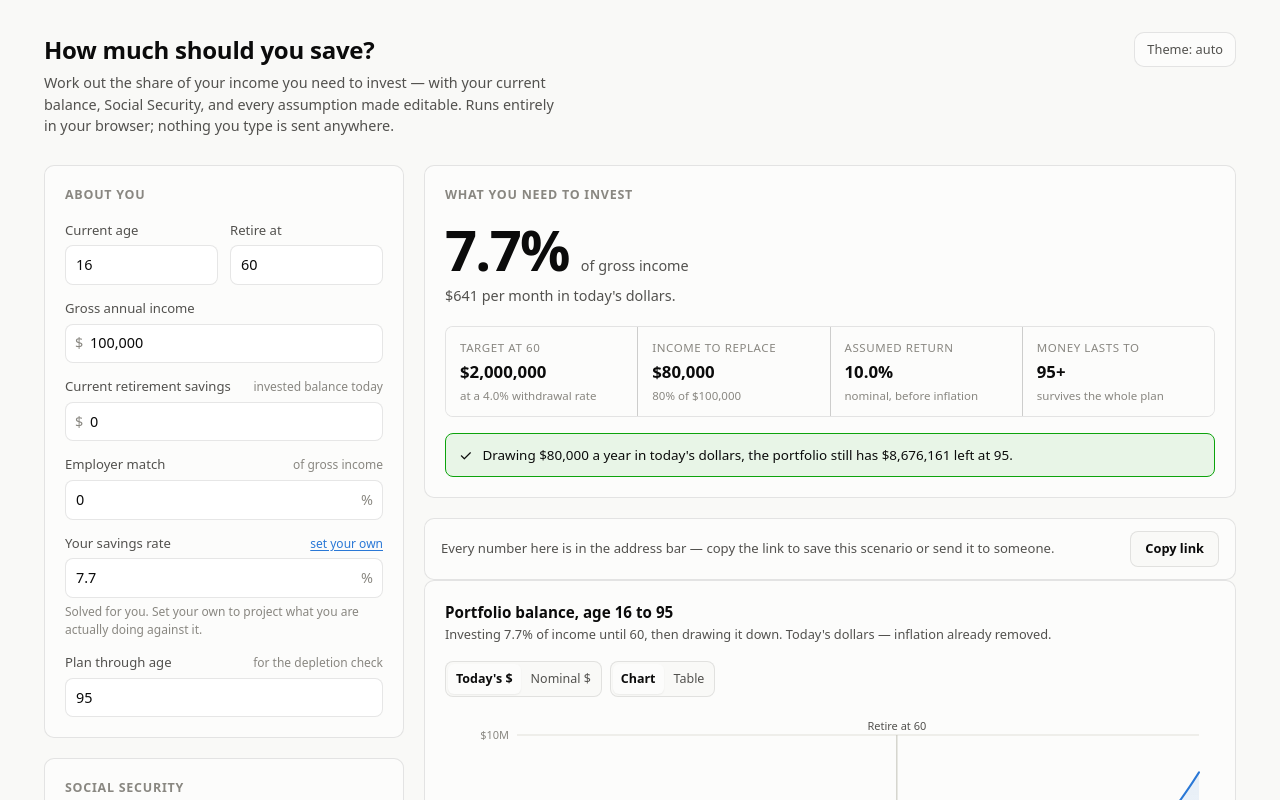
Test: typing into numeric fields › keeps an empty field from committing NaN
Clear the number field labelled "Current age". click: (142, 265)
box: [65,245,218,285]
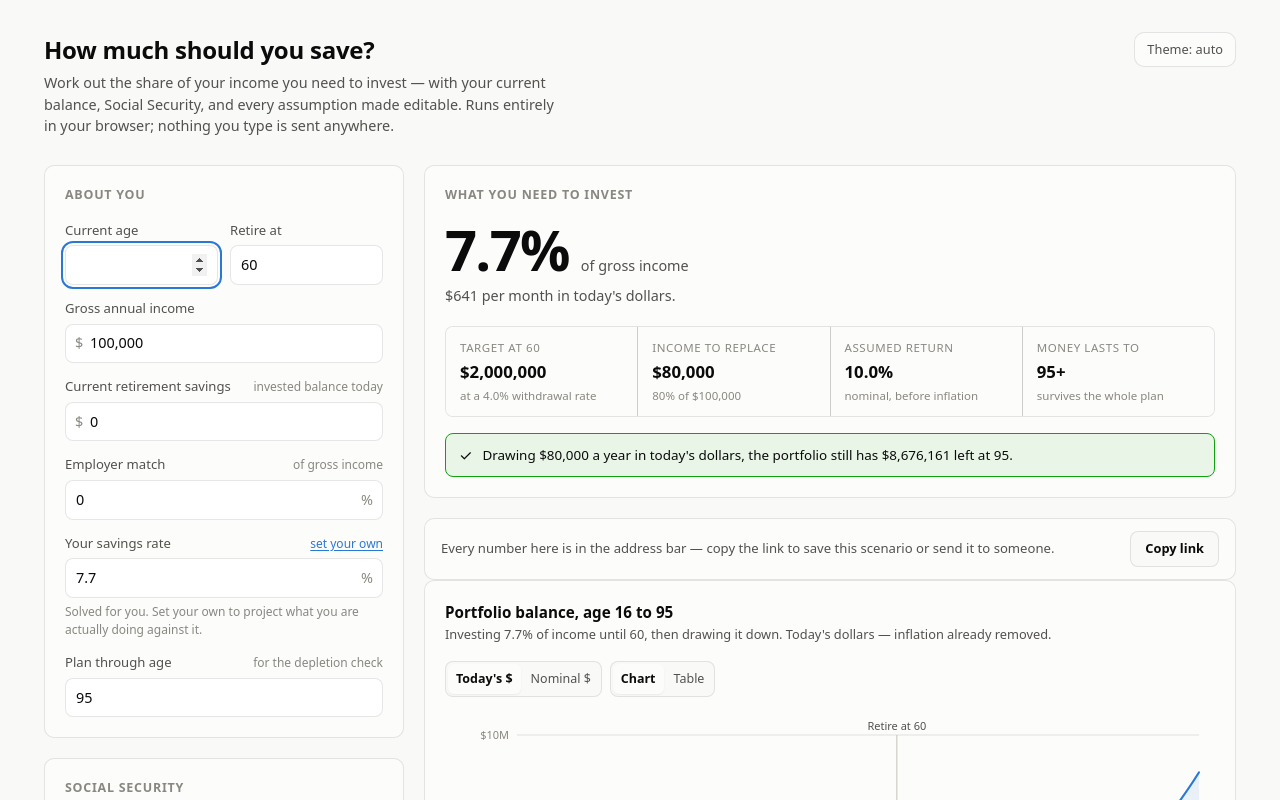
Press Tab
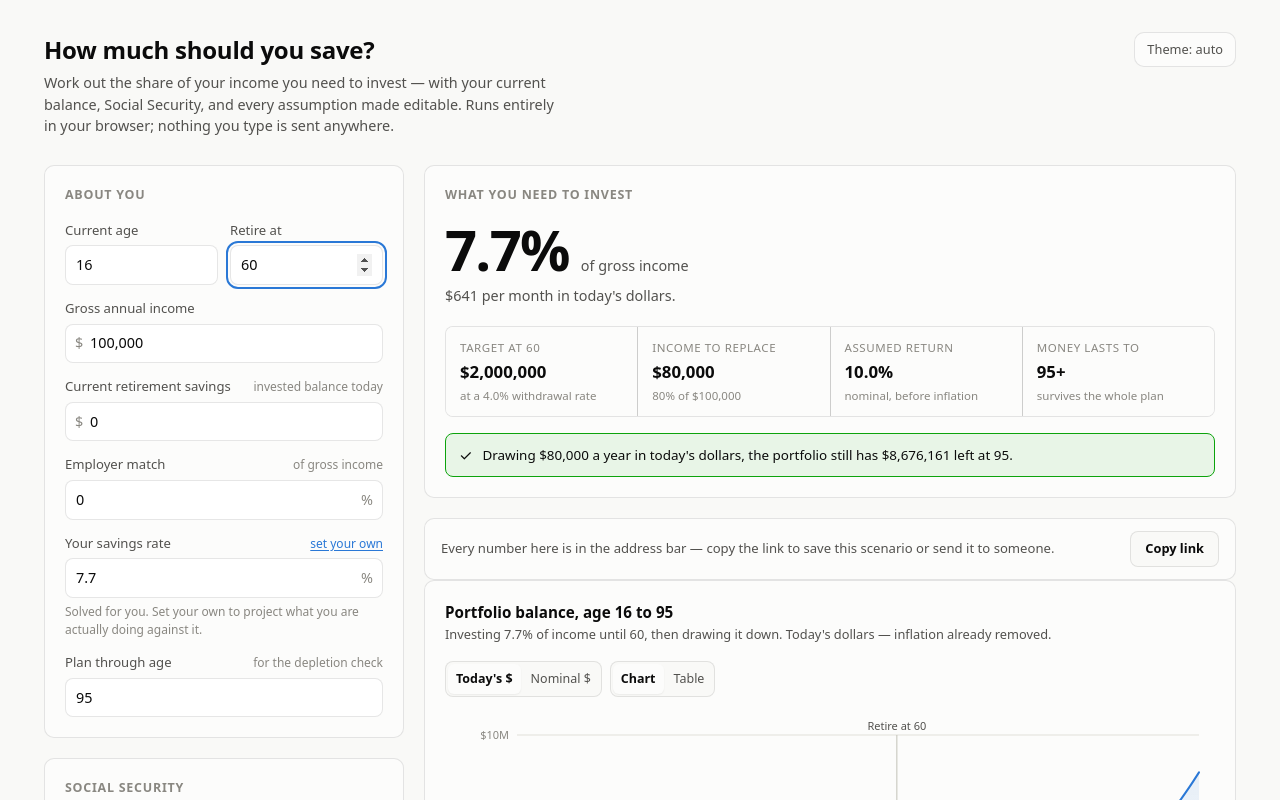
Check: the number field labelled "Current age" is not empty, box [65,245,218,285]
